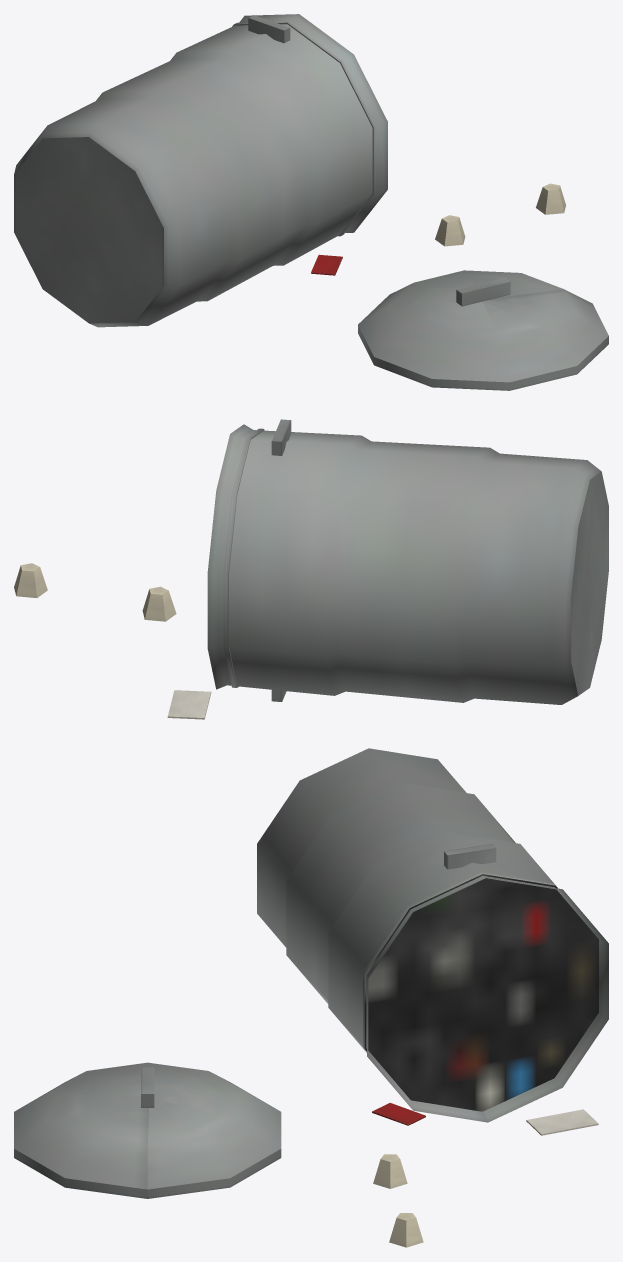
The model's file is trash_can_knocked.obj.
3 views of the same model, one above another, from view 1: azimuth 30°, elevation 25°; view 2: azimuth 150°, elevation 25°; view 3: azimuth 270°, elevation 25° (orthographic). The views are drawn at different scales.
Visible parts, largest first — view 1: trash_can_knocked; view 2: trash_can_knocked; view 3: trash_can_knocked.
Part boxes in pixels (bbox=[...]): trash_can_knocked: bbox=[14, 14, 608, 390]; trash_can_knocked: bbox=[14, 419, 608, 719]; trash_can_knocked: bbox=[14, 748, 608, 1247].
Size of the model in its own units: 1.3 by 0.55 by 1.14.
Materials: 1 (1 with a texture image).
